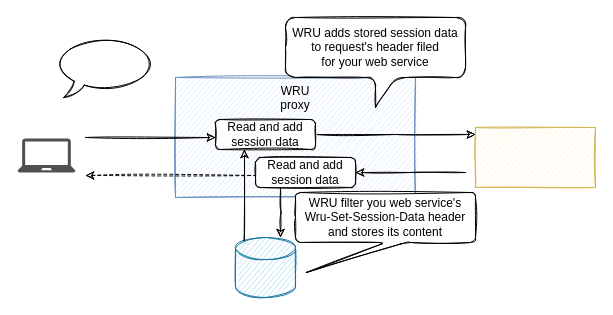
This 613x315 diagram has some shape labels left out. Here are the shapes that lost their labels. From the top down, the centre of each, then its label:
At pixel 105 67: "Send Request".
At pixel 535 157: "Your Web Service".
At pixel 265 267: "Session Database".
